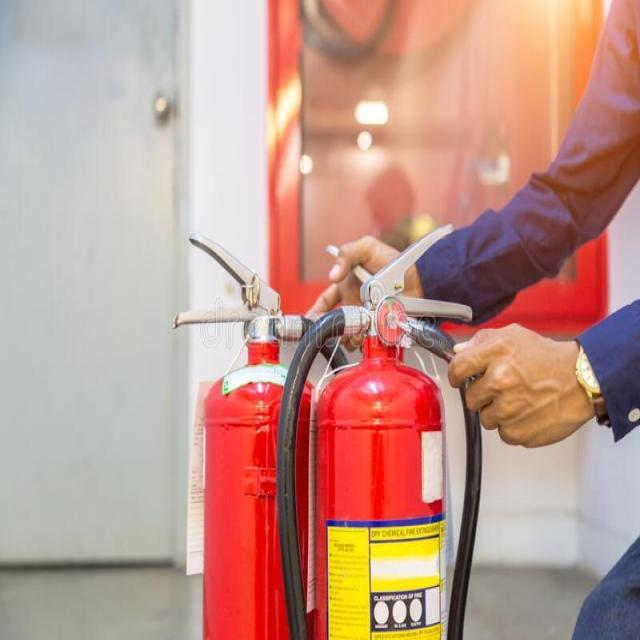fire_extinguisher: (272, 218, 477, 639), (170, 229, 358, 639)
